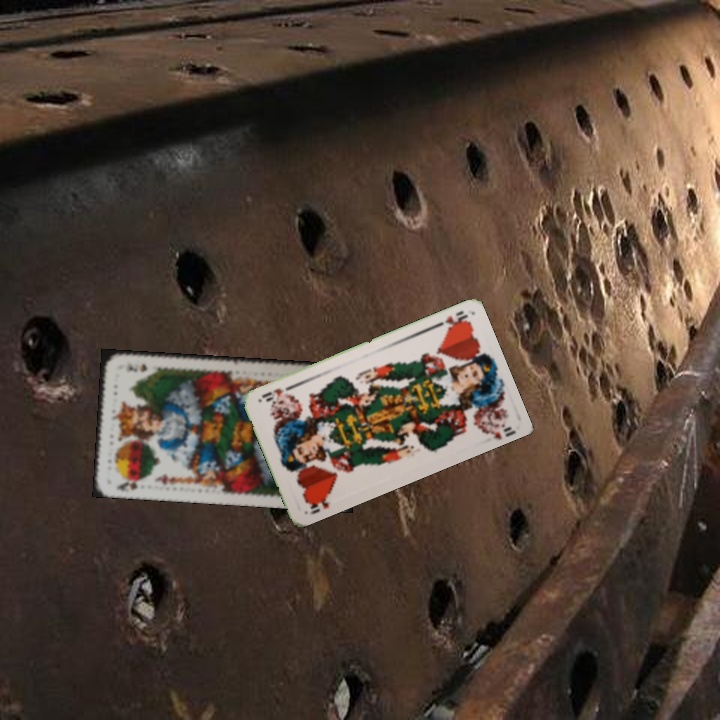HO: (430, 307, 472, 332), (302, 491, 331, 517)
SK: (112, 475, 146, 493)
